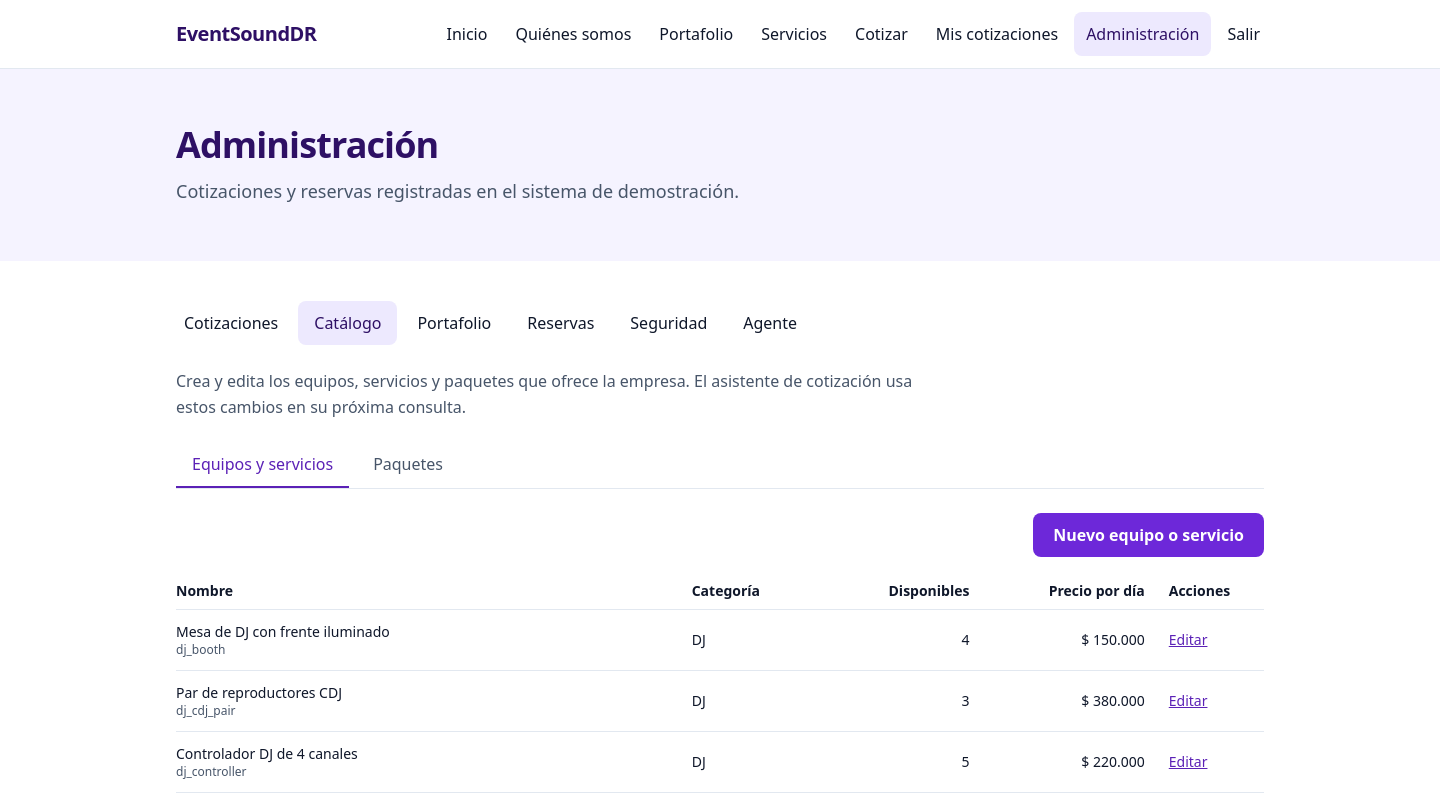
Test case: catalog admin: tabs and dialog › switches lists with the tabs, items first
Expected: the table "Paquetes del catálogo" is not shown
Click the tab "Paquetes": coordinates (408, 466) [357,444,459,488]
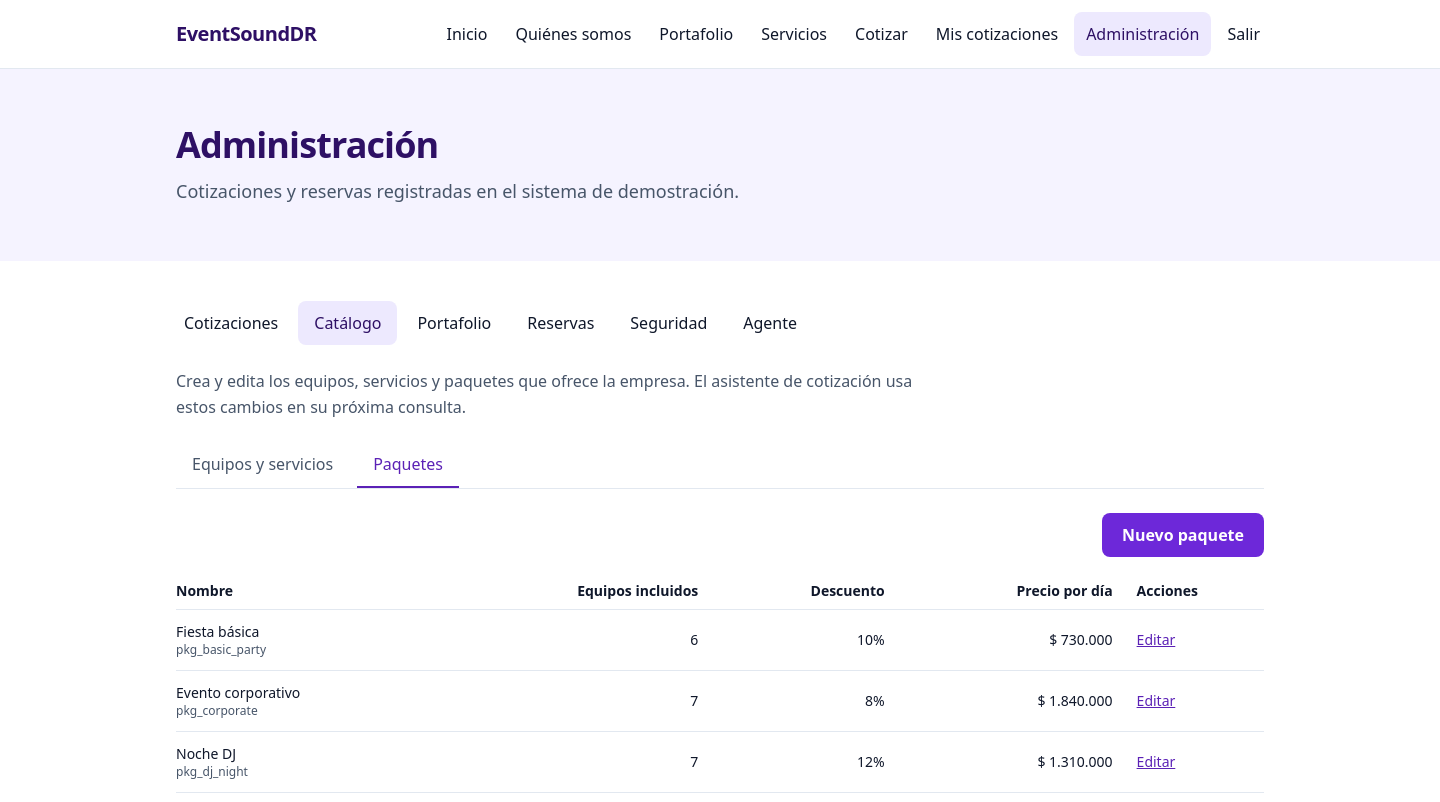
Expected: the table "Equipos y servicios del catálogo" is not shown
Expected: the button "Nuevo paquete" is shown, [1102,513,1264,557]
